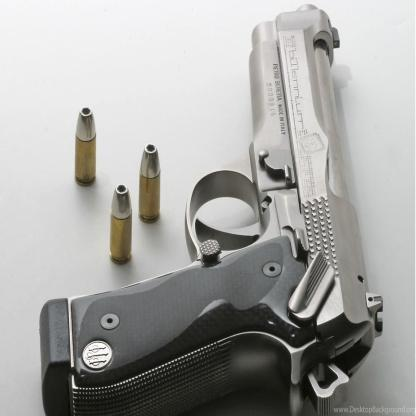handgun: (37, 7, 385, 416)
